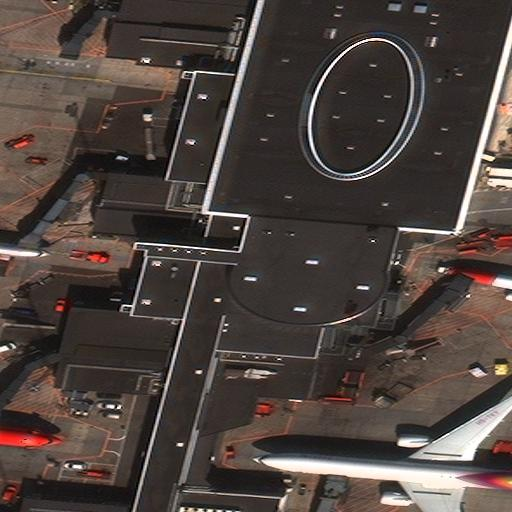Large Civil Transport: (251, 391, 512, 512), (0, 399, 63, 458)
Medium Civil Transport: (435, 256, 512, 324)
